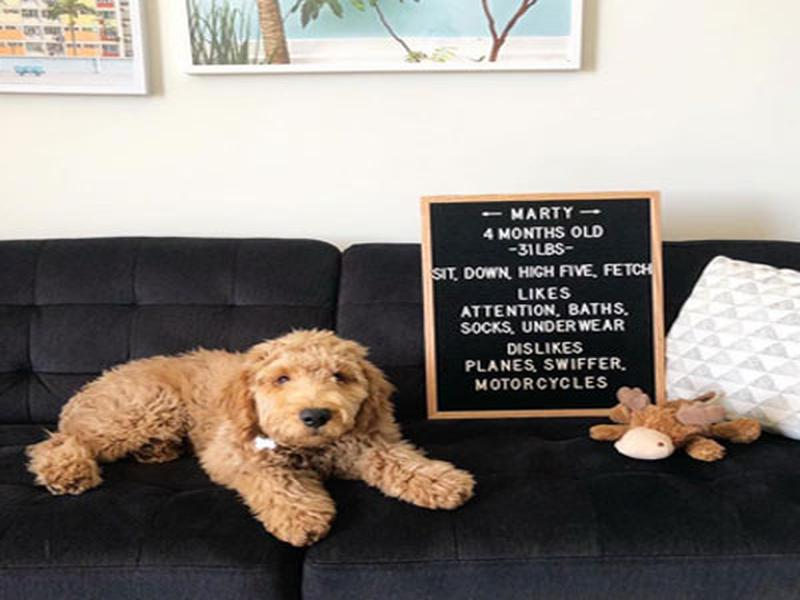dog_down: (21, 327, 481, 550)
